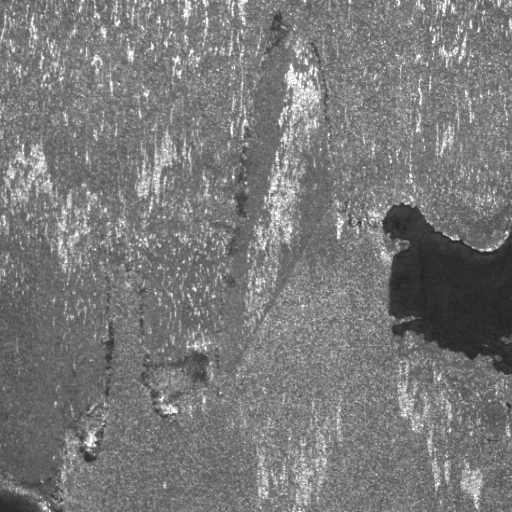qiaopi: (383, 197, 512, 378)
